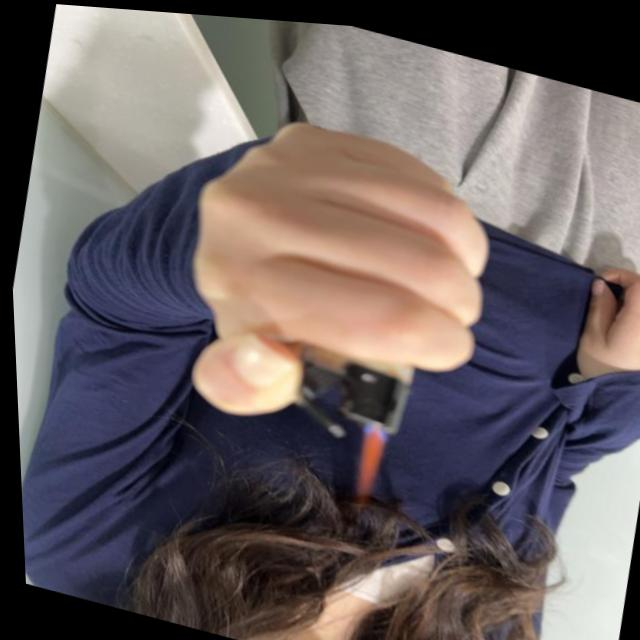Fire: (346, 415, 389, 497)
